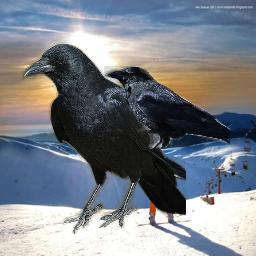Crow: (21, 42, 186, 234), (104, 66, 230, 149)
